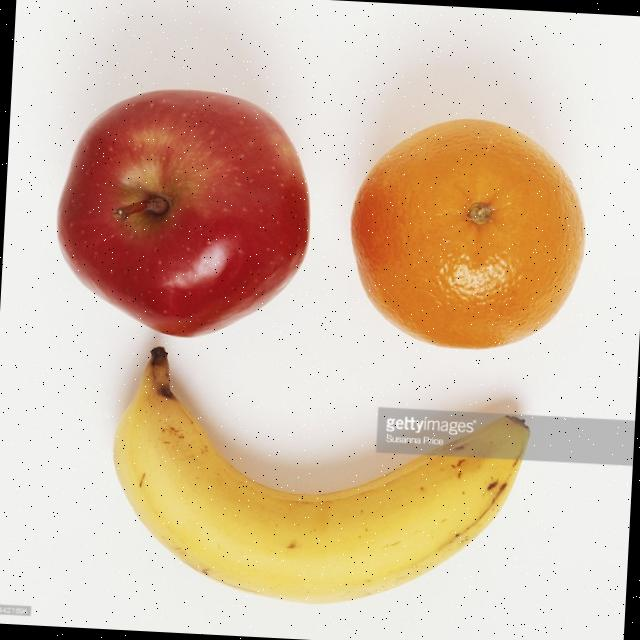Apel: (50, 82, 317, 344)
Jeruk: (344, 111, 592, 355)
Pisang: (104, 343, 534, 615)
